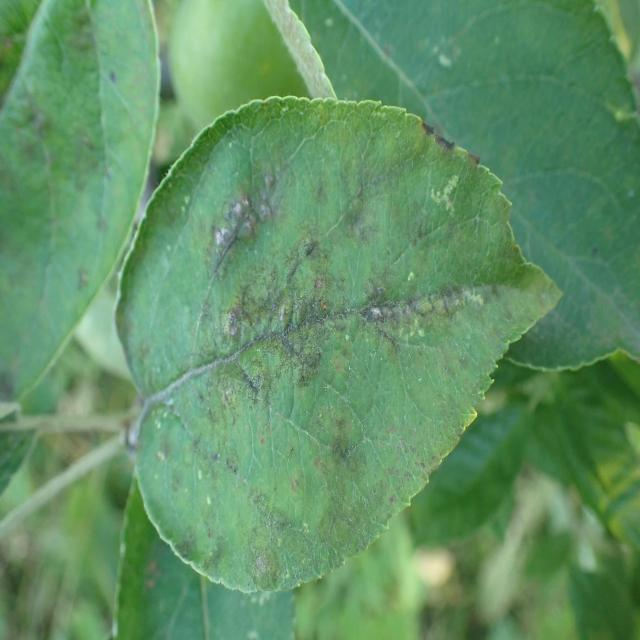scab: (113, 140, 548, 581), (0, 0, 157, 379)
